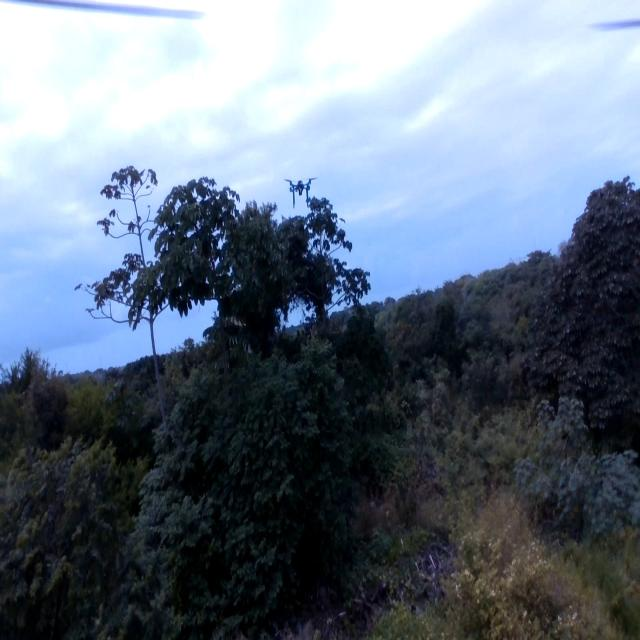-uav-: (283, 170, 319, 210)
